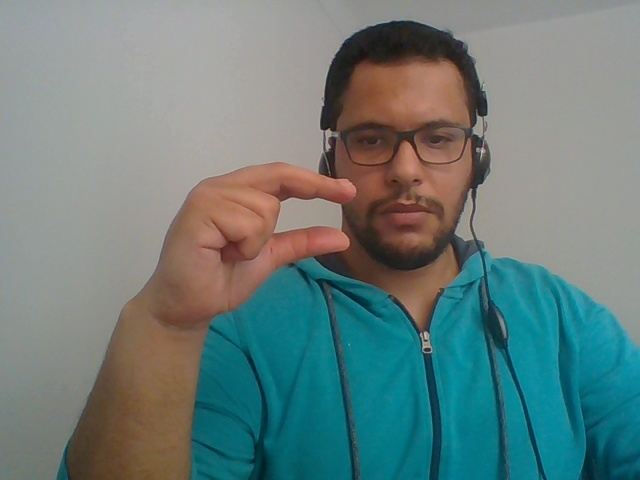no: (118, 126, 373, 357)
